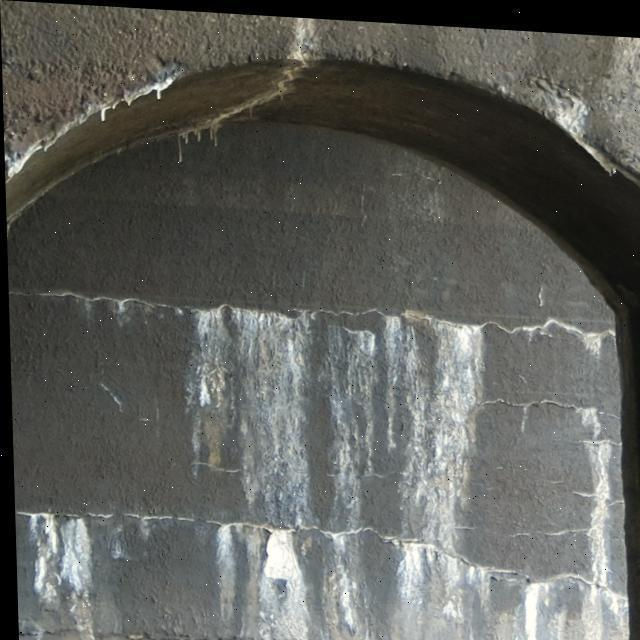D01: (386, 318, 485, 600), (6, 74, 176, 181), (230, 310, 313, 525), (6, 102, 116, 181), (258, 530, 309, 639), (542, 98, 617, 171)
